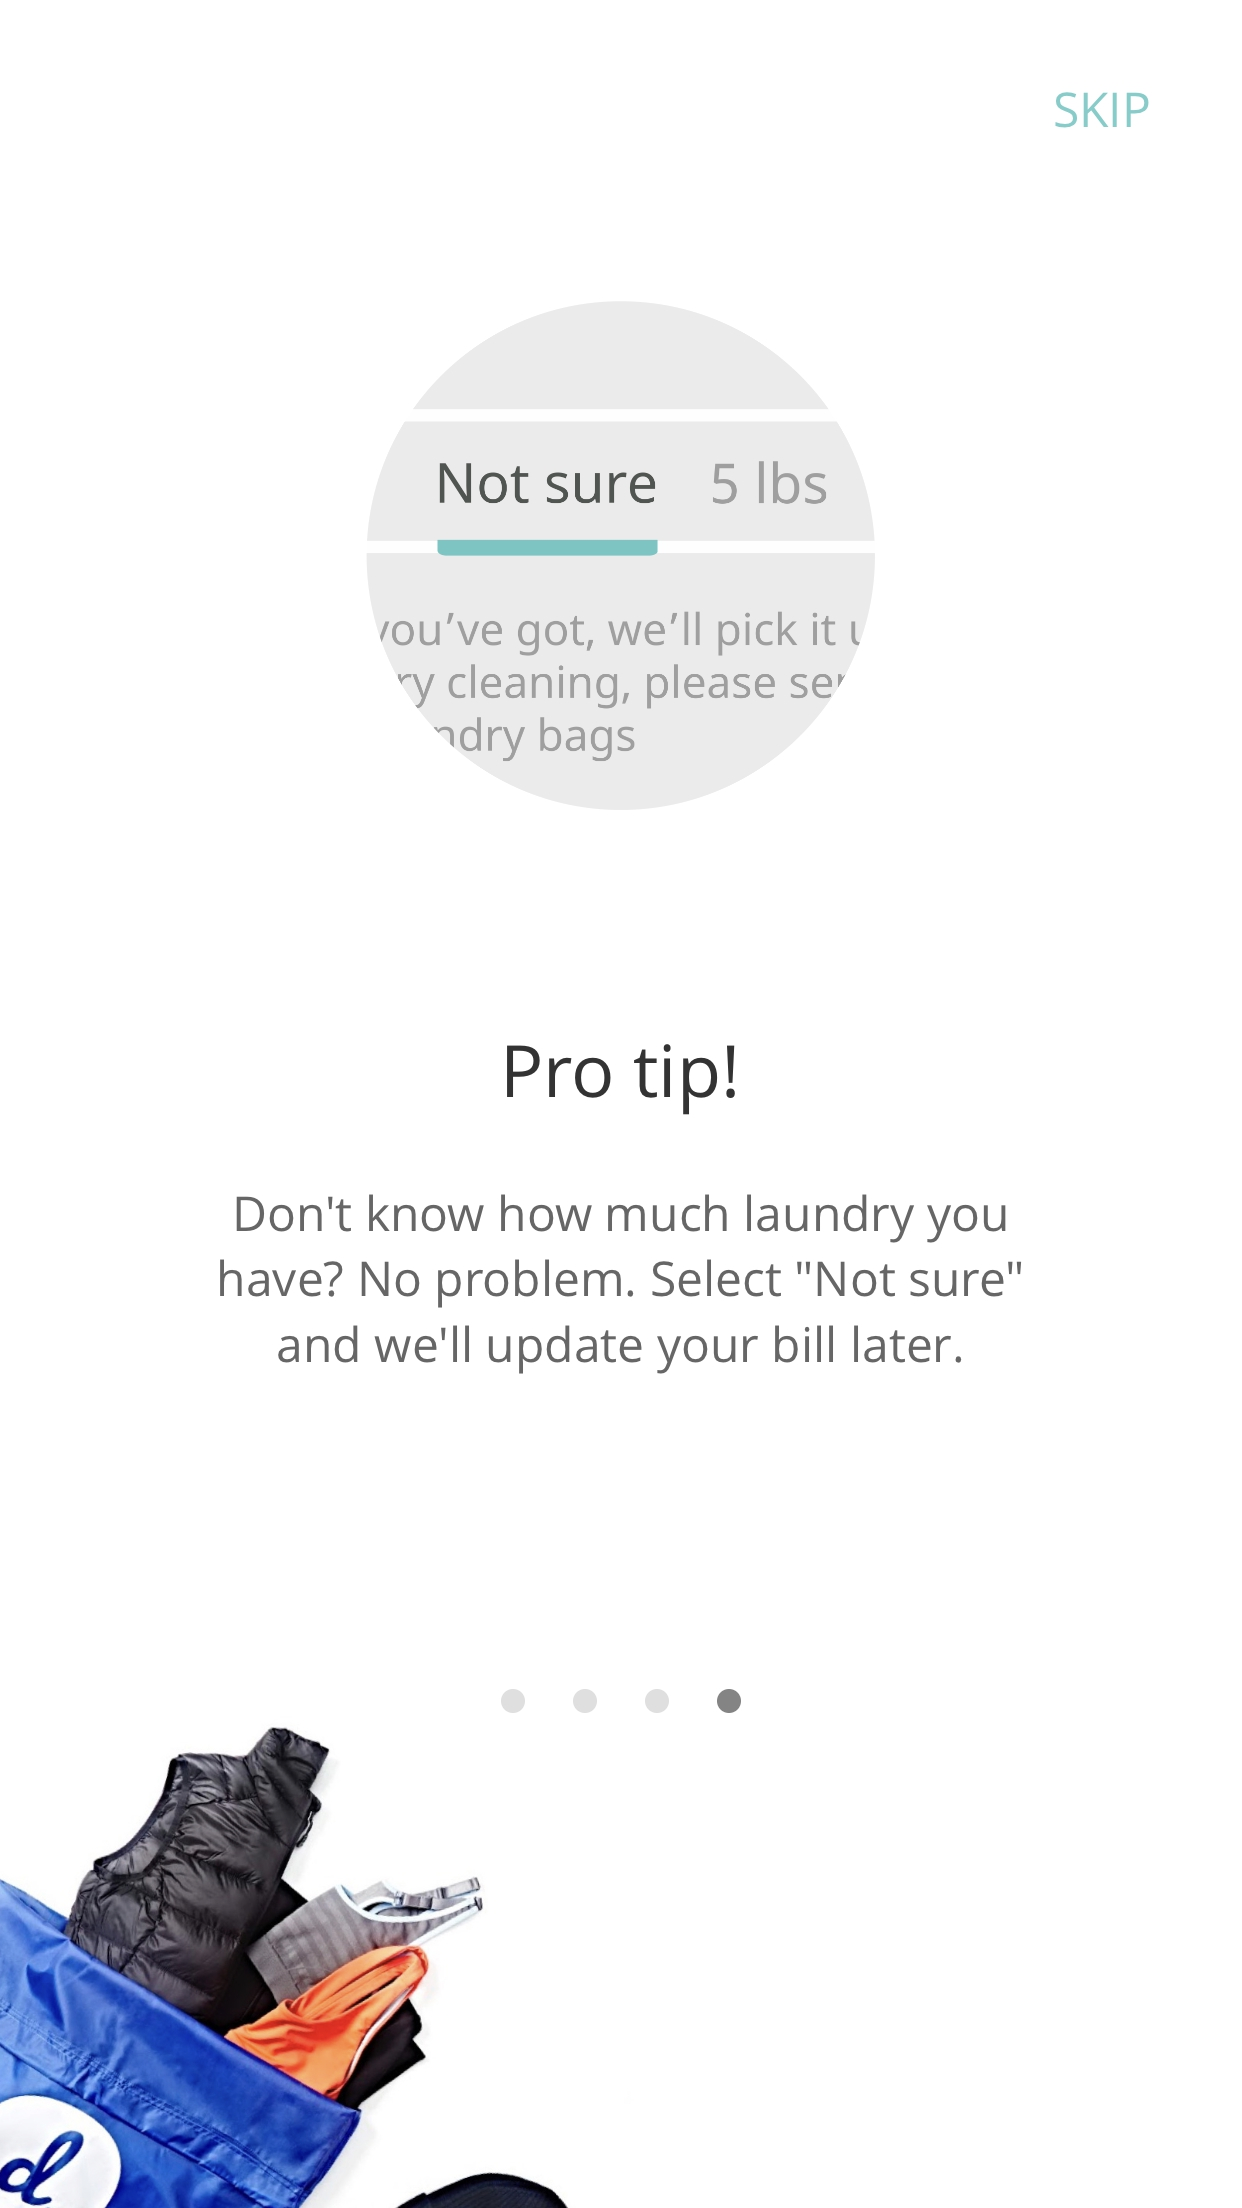Image: (2, 1726, 567, 2208), (365, 300, 877, 811)
PageIndicator: (500, 1686, 743, 1714)
Text: (220, 1193, 1024, 1375), (507, 1043, 735, 1116), (1054, 93, 1149, 129)
